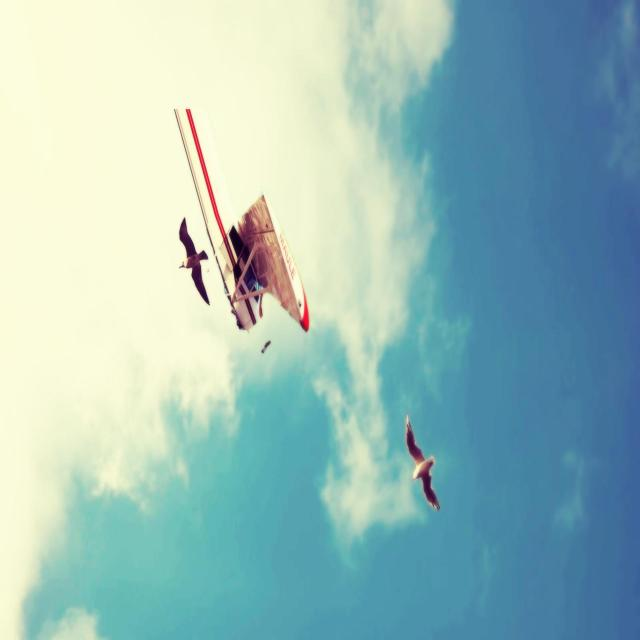airplane: (173, 104, 310, 353)
